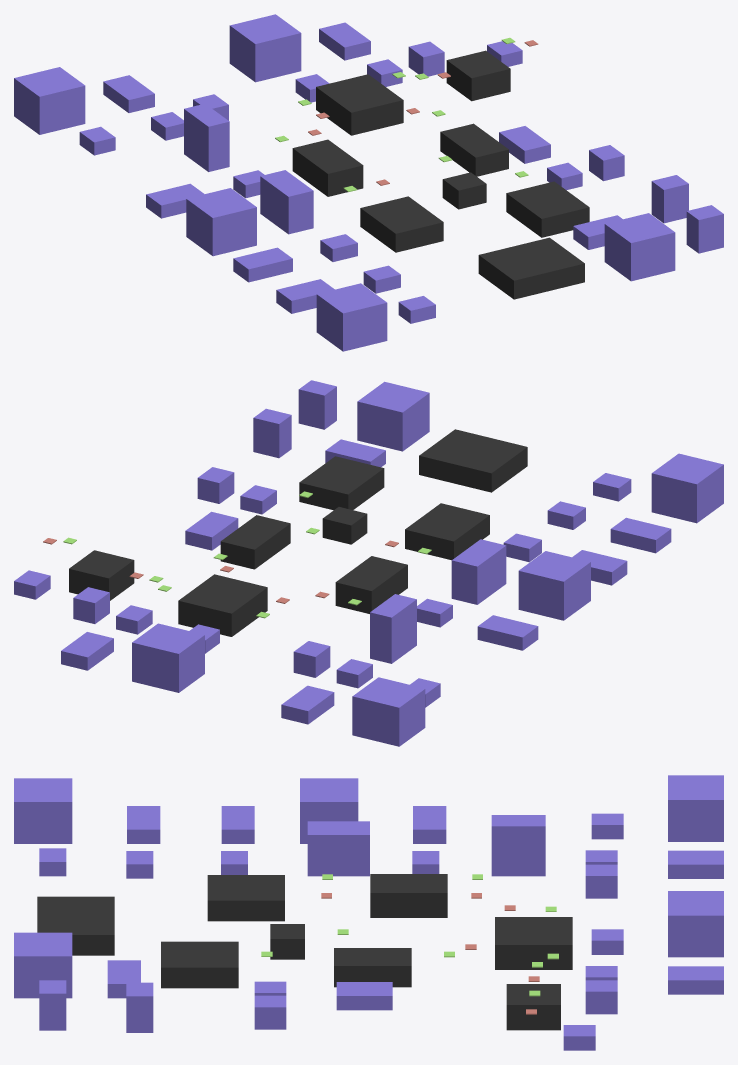
The model's file is futre greybox 3.fbx.
The picture shows the model from 3 angles, top to bottom: view 1: azimuth 30°, elevation 25°; view 2: azimuth 150°, elevation 25°; view 3: azimuth 270°, elevation 25°; orthographic projection. The views are drawn at different scales.
Visible parts, largest first — view 1: Box065, Box073, Box078, Box086, Box093, Box082, Box059, Box062, Box063, Box060, Box081, Box089 (+24 smaller); view 2: Box065, Box078, Box073, Box093, Box082, Box086, Box059, Box063, Box062, Box081, Box060, Box089 (+23 smaller); view 3: Box059, Box086, Box065, Box073, Box078, Box063, Box062, Box081, Box093, Box060, Box089, Box061 (+25 smaller).
Part boxes in pixels (left/top/right/bottom): Box065: left=478, top=237, right=584, bottom=299; Box073: left=229, top=14, right=301, bottom=82; Box078: left=14, top=67, right=85, bottom=134; Box086: left=316, top=283, right=387, bottom=351; Box093: left=604, top=213, right=675, bottom=281; Box082: left=186, top=188, right=256, bottom=256; Box059: left=316, top=74, right=403, bottom=135; Box062: left=360, top=196, right=443, bottom=252; Box063: left=506, top=181, right=589, bottom=237; Box060: left=292, top=139, right=363, bottom=196; Box081: left=260, top=170, right=313, bottom=234; Box089: left=184, top=103, right=229, bottom=171; Box065: left=419, top=429, right=527, bottom=492; Box078: left=352, top=677, right=425, bottom=746; Box073: left=132, top=623, right=204, bottom=692; Box093: left=357, top=381, right=429, bottom=451; Box082: left=518, top=551, right=590, bottom=620; Box086: left=651, top=453, right=723, bottom=523; Box059: left=178, top=574, right=267, bottom=636; Box063: left=299, top=456, right=384, bottom=510; Box062: left=405, top=503, right=489, bottom=560; Box081: left=451, top=539, right=506, bottom=604; Box060: left=335, top=556, right=407, bottom=613; Box089: left=370, top=594, right=416, bottom=663; Box059: left=495, top=917, right=572, bottom=969; Box086: left=14, top=778, right=72, bottom=843; Box065: left=37, top=896, right=114, bottom=955; Box073: left=668, top=891, right=723, bottom=957; Box078: left=668, top=775, right=723, bottom=841; Box063: left=161, top=941, right=238, bottom=988; Box062: left=207, top=875, right=284, bottom=921; Box081: left=307, top=821, right=369, bottom=876; Box093: left=14, top=932, right=72, bottom=998; Box060: left=370, top=874, right=447, bottom=917; Box089: left=491, top=815, right=545, bottom=876; Box061: left=334, top=948, right=411, bottom=987.
Bounding box in the file's own units: 601 × 59.75 × 772.
